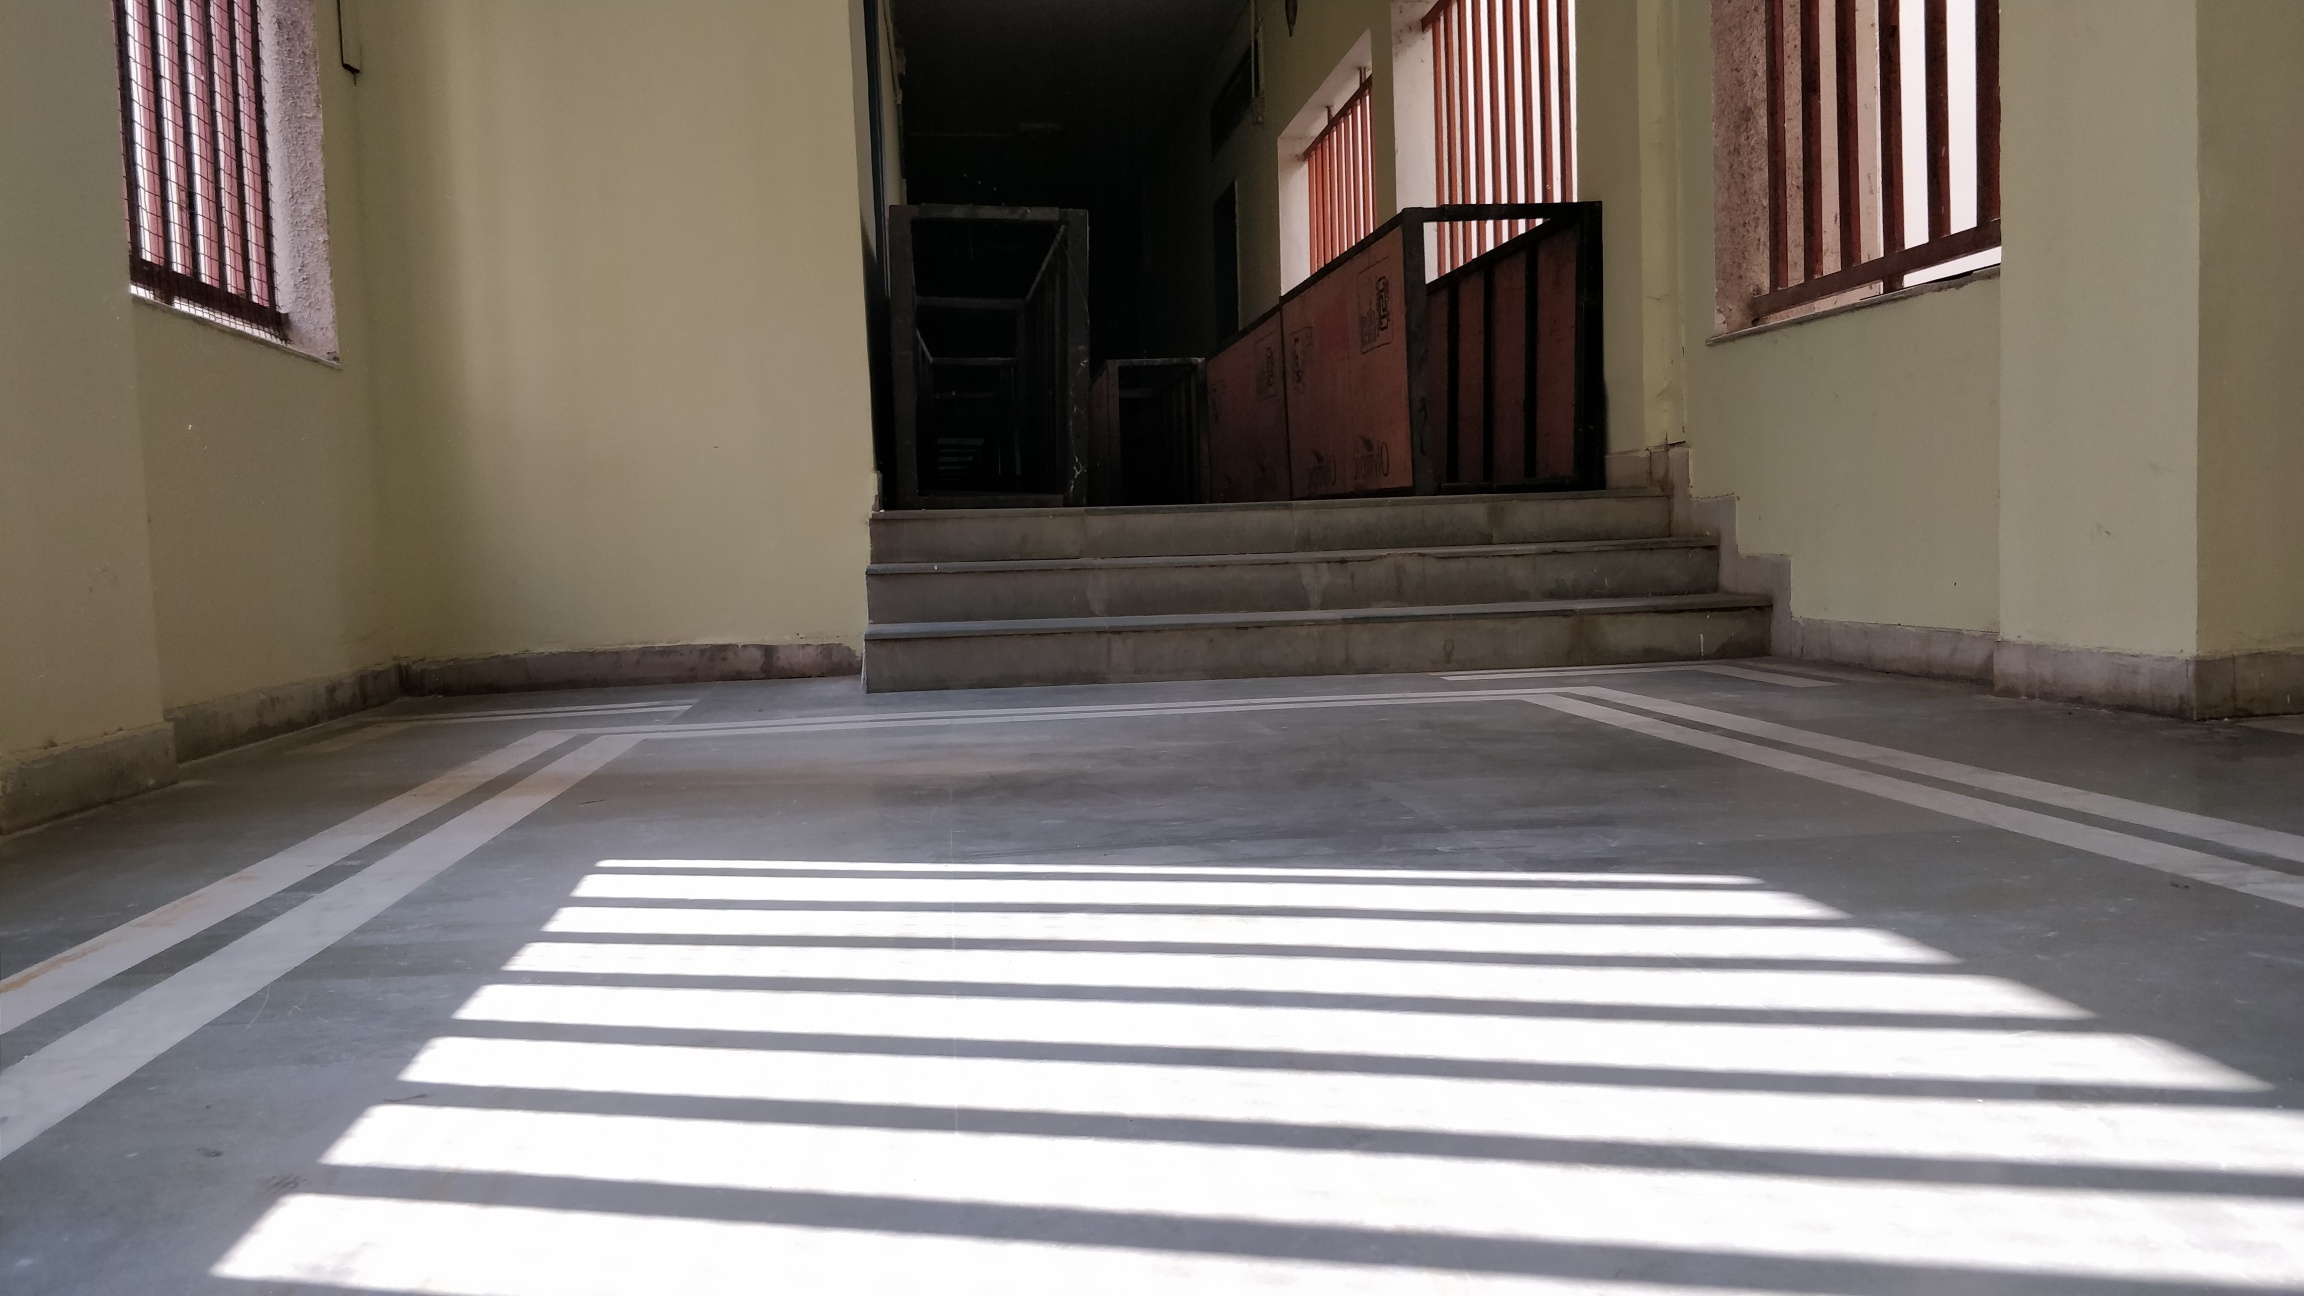stairs_up: (881, 506, 1749, 699)
